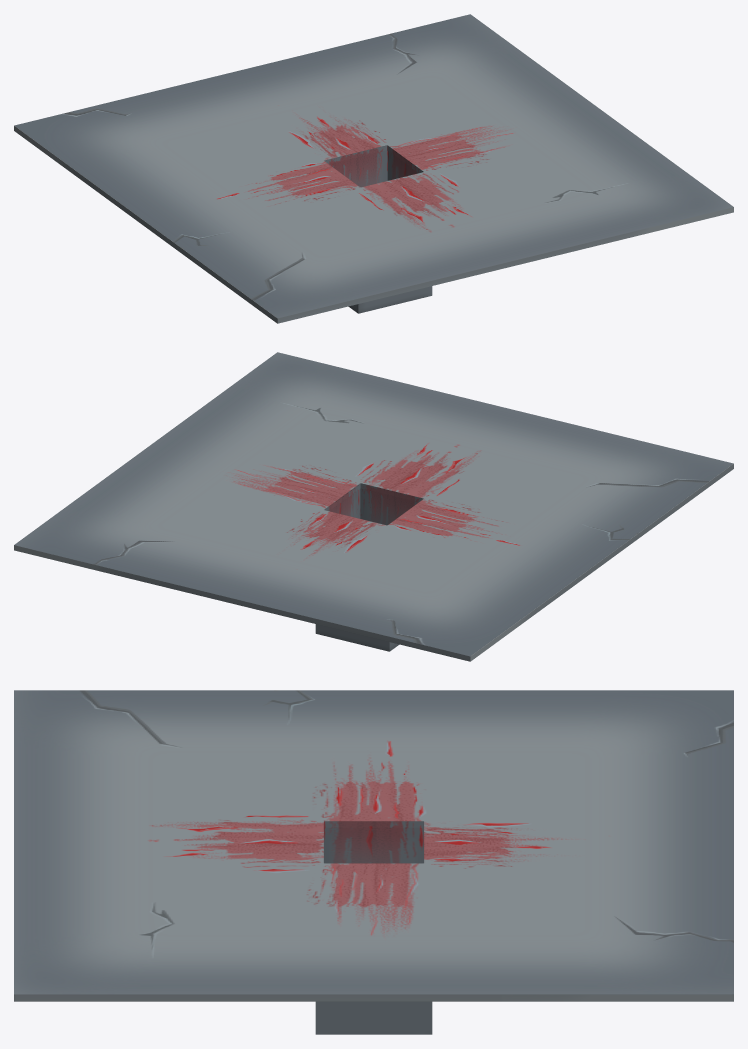
File: ploca sa rupom red.fbx
The picture shows the model from 3 angles, top to bottom: view 1: azimuth 30°, elevation 25°; view 2: azimuth 150°, elevation 25°; view 3: azimuth 270°, elevation 25°; orthographic projection. The views are drawn at different scales.
Parts seen in each view (by area): view 1: Cube.005, Cube; view 2: Cube.005, Cube; view 3: Cube.005, Cube.
Part boxes in pixels (x1,y1,x2,y2): Cube.005: (14,14,733,323); Cube: (330,150,432,313); Cube.005: (14,352,733,661); Cube: (315,488,417,651); Cube.005: (14,690,733,1001); Cube: (315,828,432,1034).
Bounding box in the file's own units: 900 × 231 × 900.
Materials: 1 (1 with a texture image).
